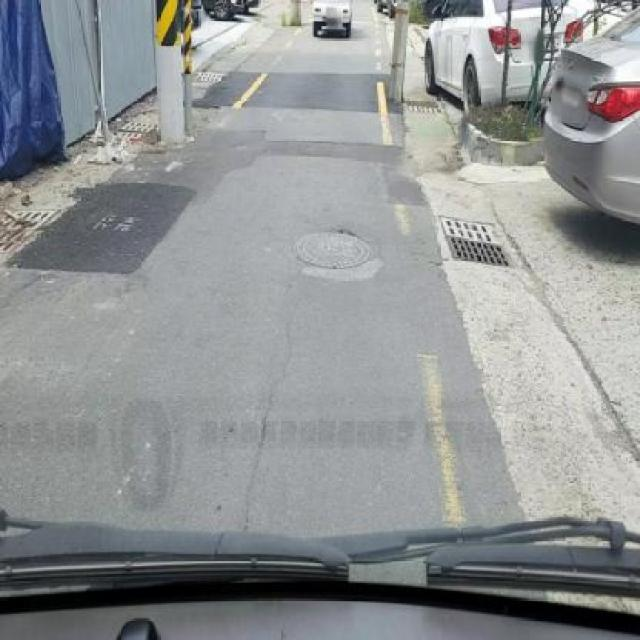Manhole: (439, 210, 513, 276), (292, 226, 376, 272), (0, 207, 62, 255), (406, 94, 442, 118), (116, 124, 158, 144), (192, 69, 230, 86)
